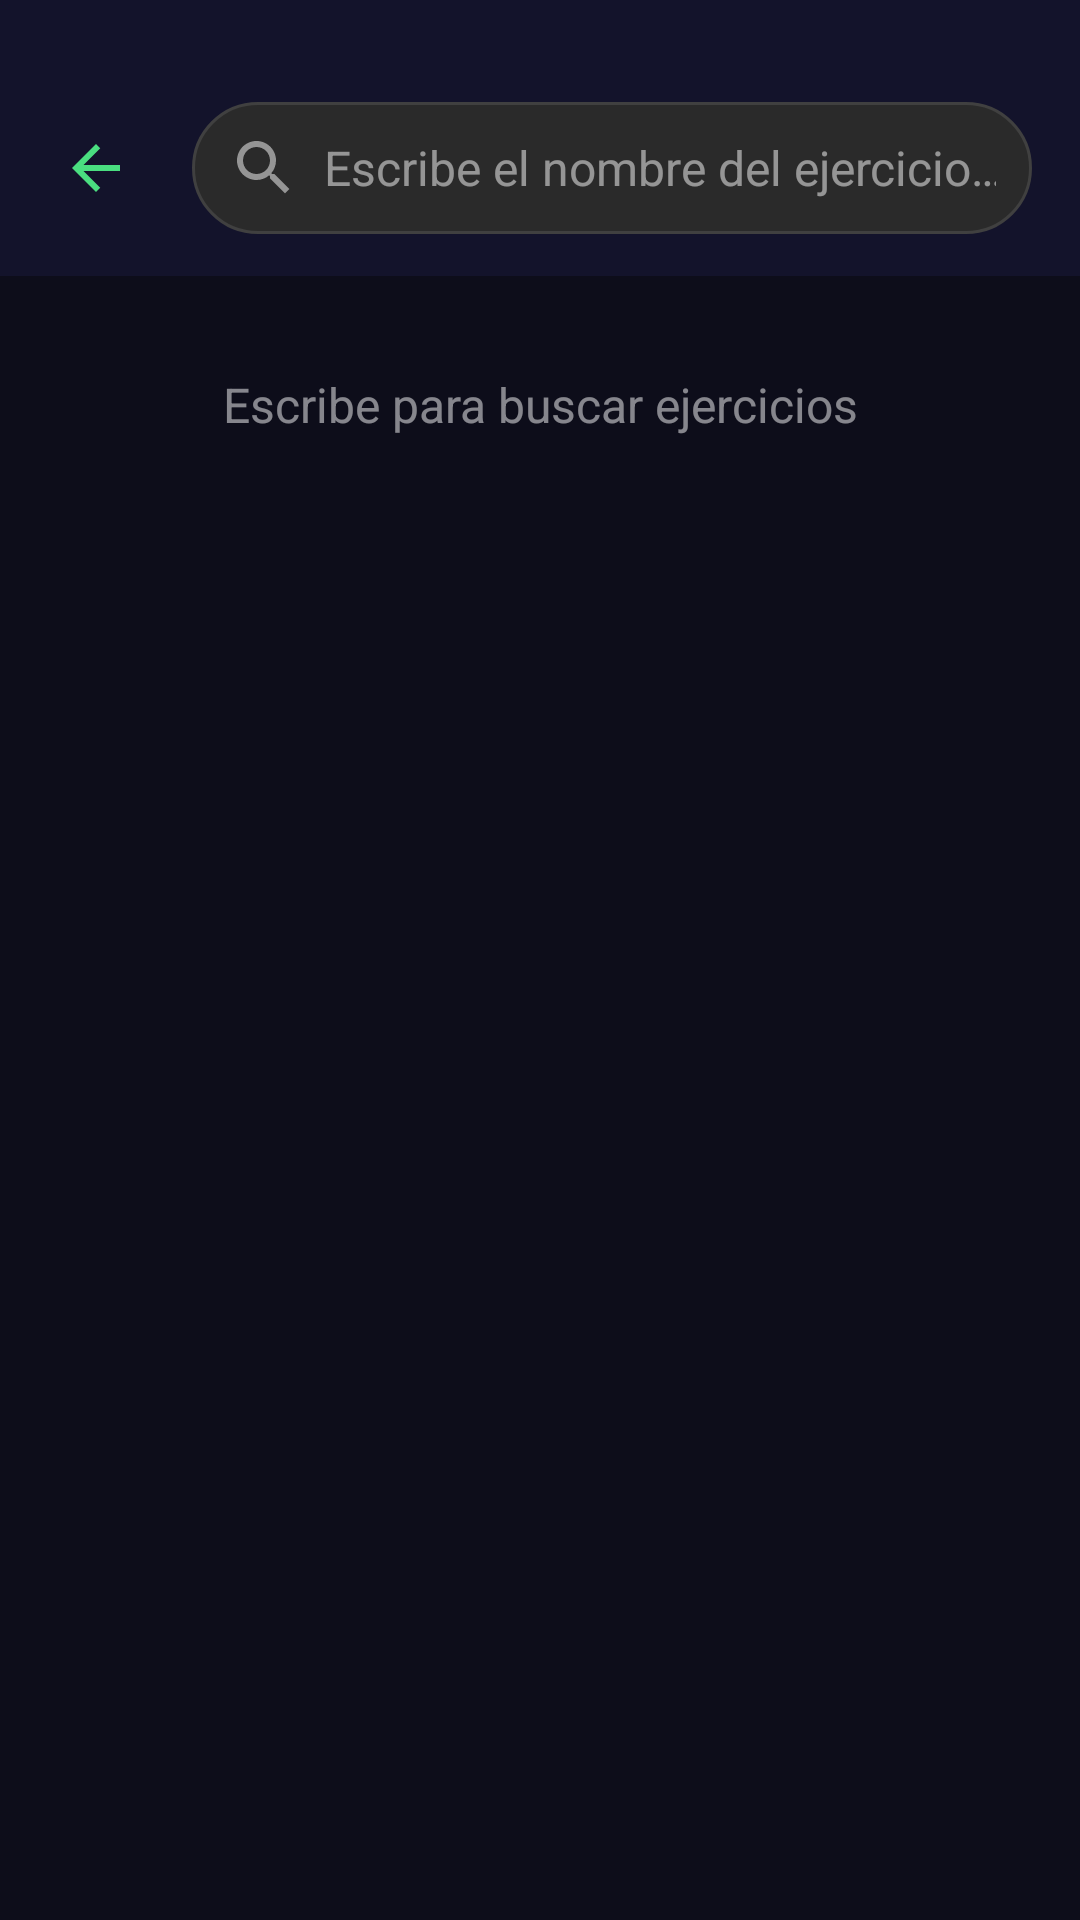

Named icons in this screenshot (1080w x 1920h) and their bounding boxes, (x1, y1, x2, y2):
Volver: (72, 144, 120, 192)
